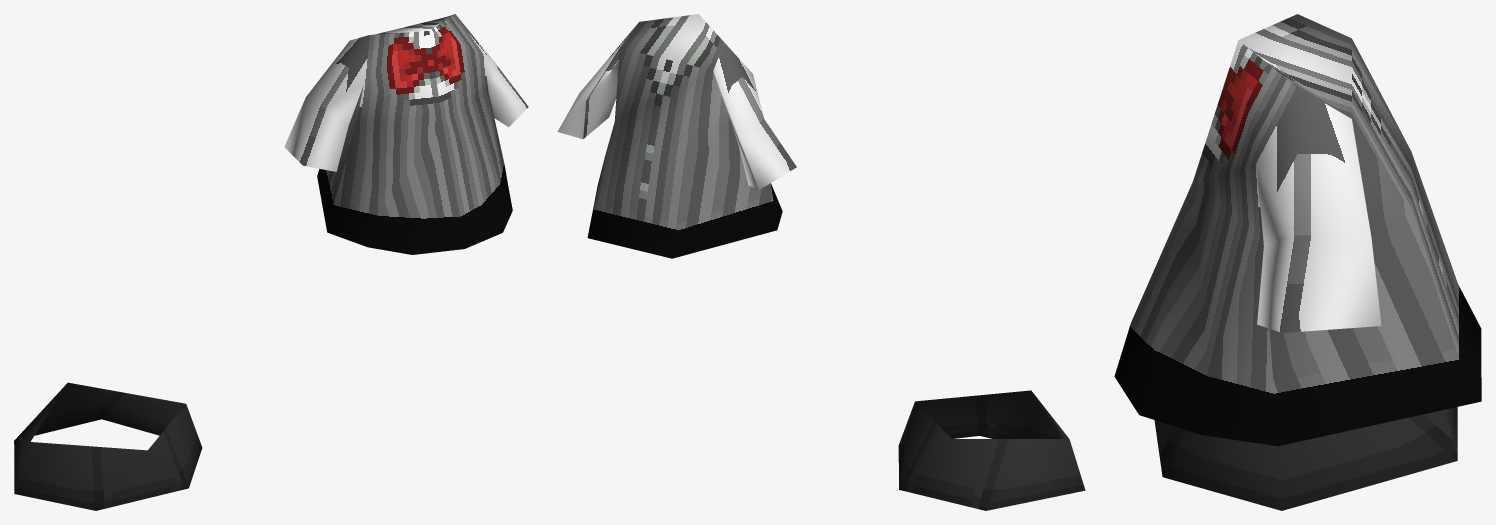
3 renders of one model, left to right at view 1: azimuth 30°, elevation 25°; view 2: azimuth 150°, elevation 25°; view 3: azimuth 270°, elevation 25°, orthographic. The views are drawn at different scales.
Parts seen in each view (by area): view 1: 1751cl_set_ska; view 2: 1751cl_set_ska; view 3: 1751cl_set_ska.
Part boxes in pixels (<box>): 1751cl_set_ska: <box>14,14,528,510</box>; 1751cl_set_ska: <box>557,14,1085,510</box>; 1751cl_set_ska: <box>1114,14,1481,510</box>.
Bounding box in the file's own units: 2.51 × 1.76 × 0.8848.
Materials: 2 (2 with a texture image).
